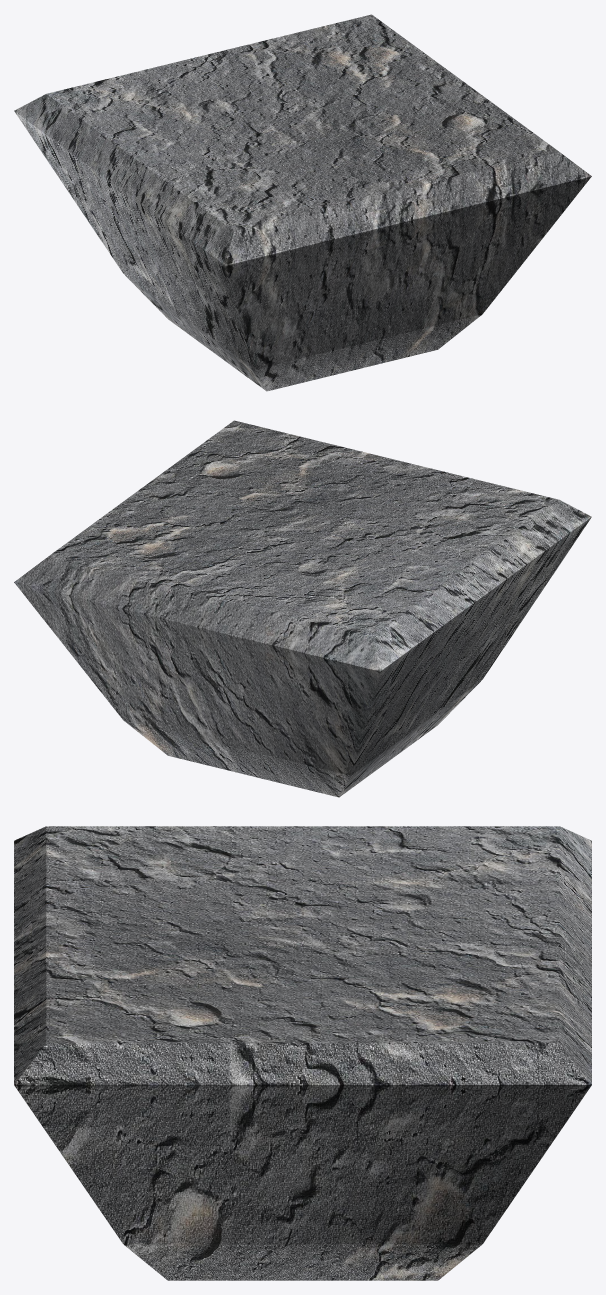
Rendered from SquarePlatform.fbx.
3 views of the same model, one above another, from view 1: azimuth 30°, elevation 25°; view 2: azimuth 150°, elevation 25°; view 3: azimuth 270°, elevation 25° (orthographic). The views are drawn at different scales.
Parts seen in each view (by area): view 1: pCube1; view 2: pCube1; view 3: pCube1.
Boxes of the visible parts, x1=… form: pCube1: x1=14, y1=14, x2=591, y2=391; pCube1: x1=14, y1=420, x2=591, y2=797; pCube1: x1=14, y1=826, x2=591, y2=1280.
Size of the model in its own units: 4 by 2.21 by 4.
